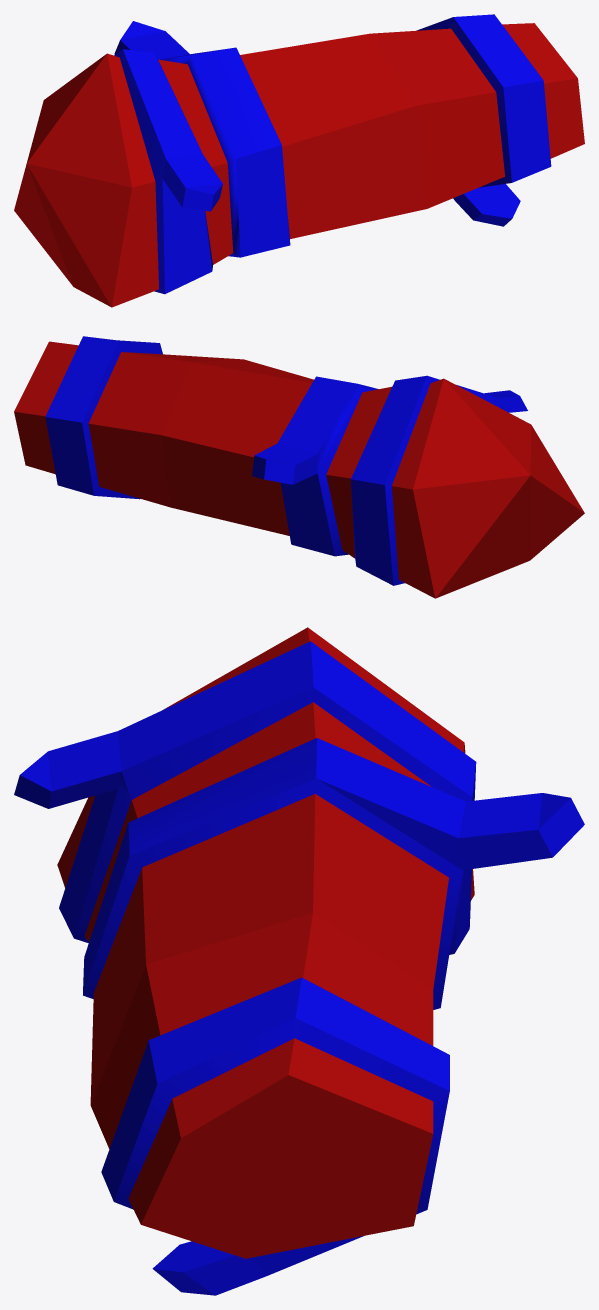
The model's file is Chr_ArmUpperLeft_Male_Static_03.fbx.
The picture shows the model from 3 angles, top to bottom: view 1: azimuth 30°, elevation 25°; view 2: azimuth 150°, elevation 25°; view 3: azimuth 270°, elevation 25°; orthographic projection. The views are drawn at different scales.
Visible parts, largest first — view 1: Chr_ArmUpperLeft_Male_03; view 2: Chr_ArmUpperLeft_Male_03; view 3: Chr_ArmUpperLeft_Male_03.
Boxes of the visible parts, box(x1,y1,x2,y2) form: Chr_ArmUpperLeft_Male_03: box(14, 14, 584, 307); Chr_ArmUpperLeft_Male_03: box(14, 336, 584, 598); Chr_ArmUpperLeft_Male_03: box(14, 627, 584, 1295).
Size of the model in its own units: 33.45 by 14.33 by 19.54.
